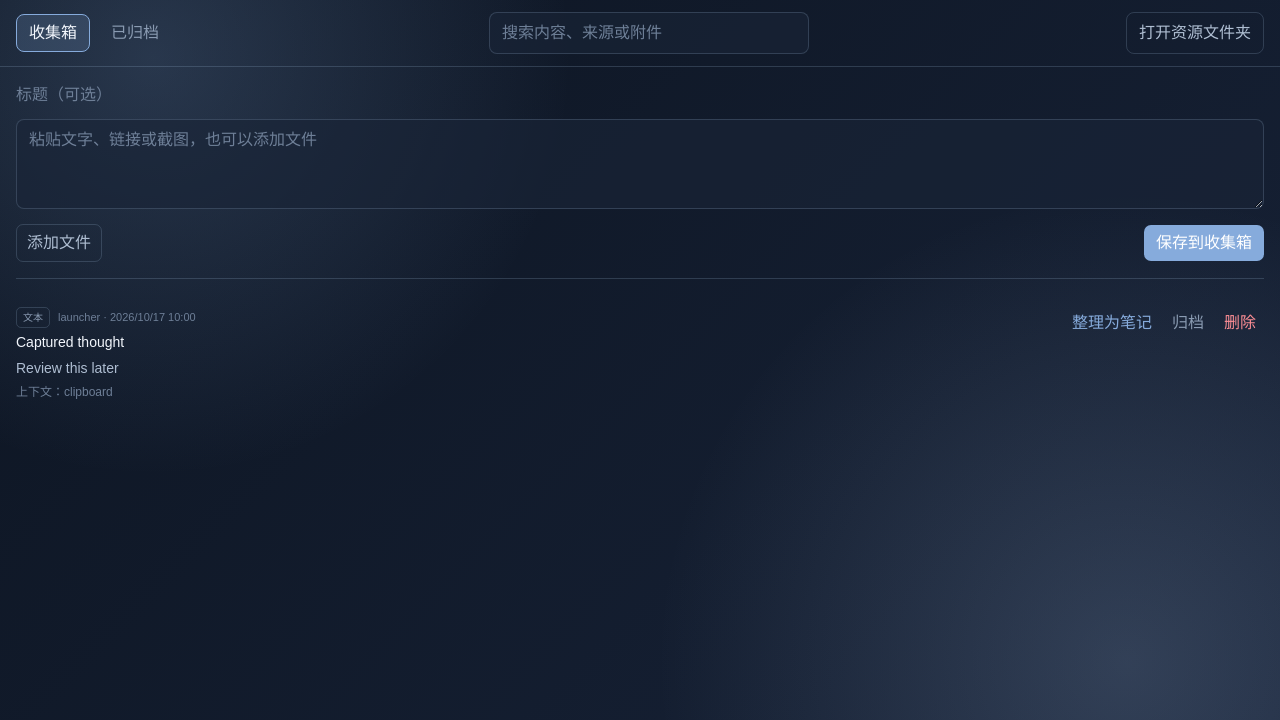
Scenario: InboxPanel › surfaces a delete failure without dropping the item
Check: the heading "Captured thought" is shown, box [16, 334, 124, 350]
Click the button "删除" at point(1240, 323), box [1216, 307, 1264, 339]
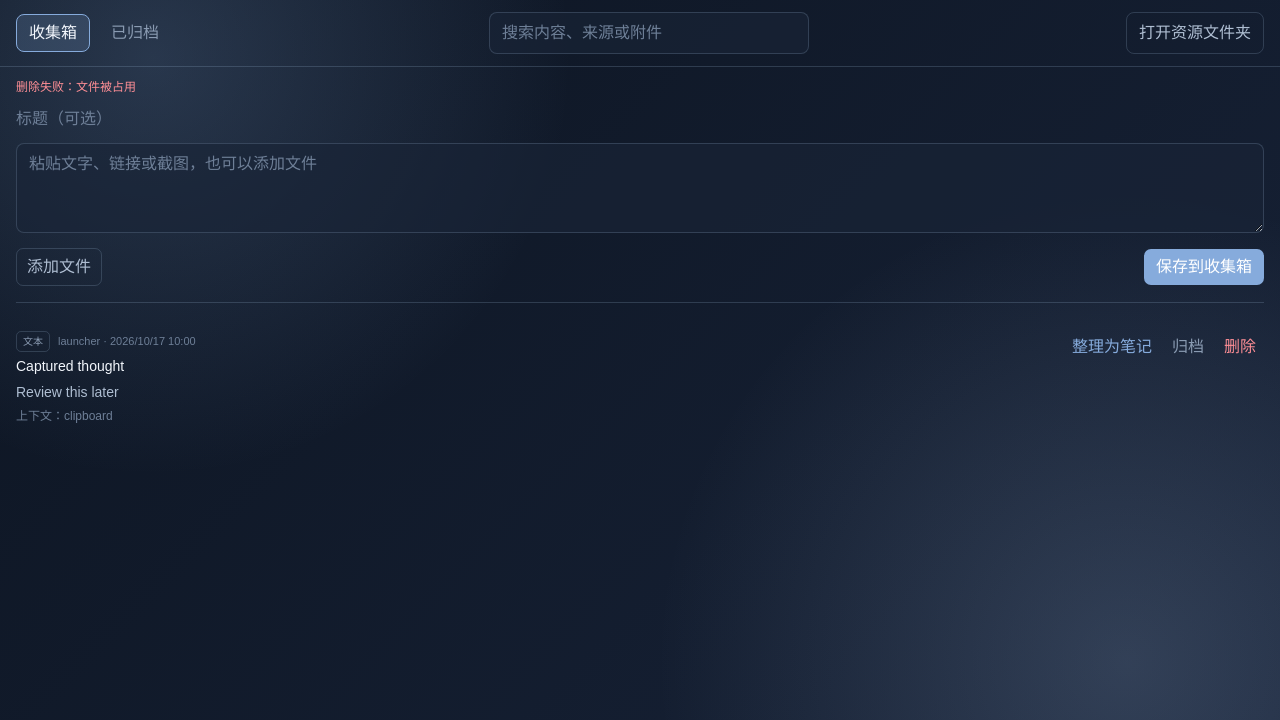
Check: the heading "Captured thought" is shown, box [16, 358, 124, 374]
Check: the message reads "删除失败：文件被占用", box [16, 80, 136, 94]
